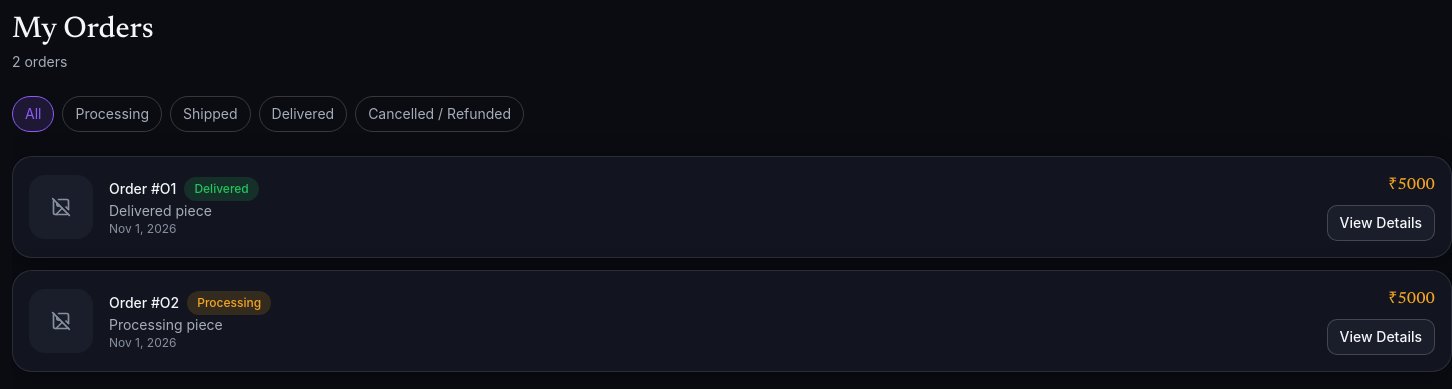
Test: OrdersPage › filtering by a status group shows only matching orders
Click the button "Delivered" at [303, 114], box [258,96,347,132]
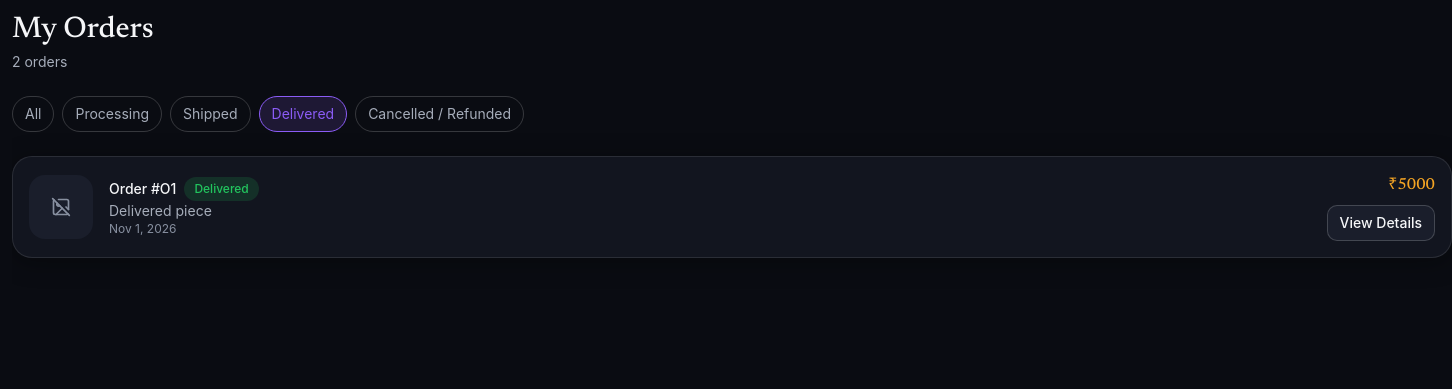
Expected: the text "Delivered piece" is shown, [109,202,212,219]
Expected: the text "Processing piece" is gone
